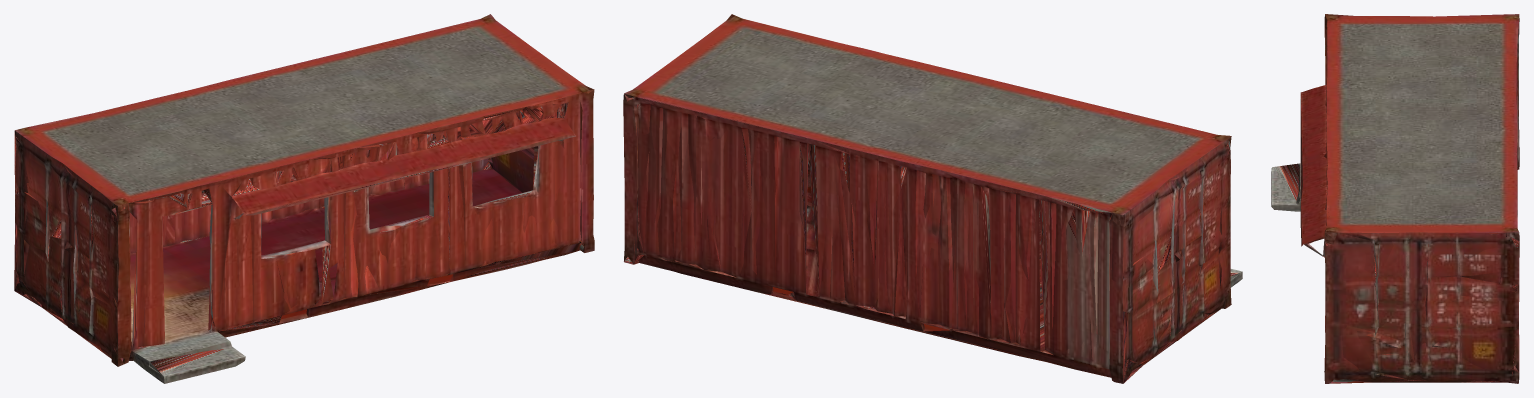
Rendered from cargo_container_red.glb.
The picture shows the model from 3 angles, left to right: view 1: azimuth 30°, elevation 25°; view 2: azimuth 150°, elevation 25°; view 3: azimuth 270°, elevation 25°; orthographic projection. The views are drawn at different scales.
Parts seen in each view (by area): view 1: turn, mesh_lod; view 2: turn, mesh_lod; view 3: turn, mesh_lod.
Boxes of the visible parts, box(x1,y1,x2,y2) form: turn: box(14, 14, 594, 383); mesh_lod: box(14, 19, 594, 380); turn: box(623, 14, 1242, 383); mesh_lod: box(623, 19, 1241, 383); turn: box(1271, 14, 1519, 383); mesh_lod: box(1271, 14, 1519, 383).
Bounding box in the file's own units: 8.08 × 2.6 × 3.85.
1 material, 1 textured.
